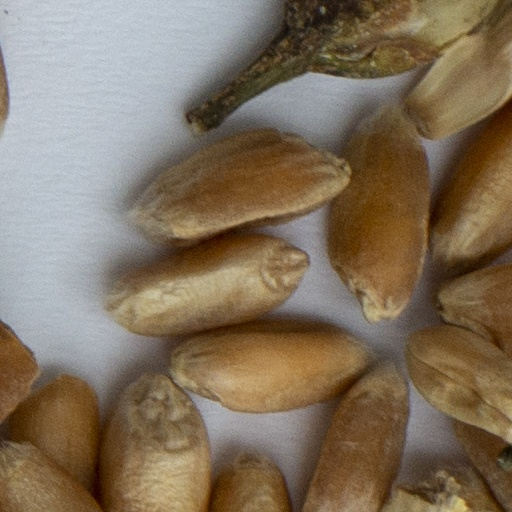Peel-poly: (186, 0, 486, 132), (394, 0, 511, 139), (0, 323, 37, 417), (382, 477, 463, 511)
